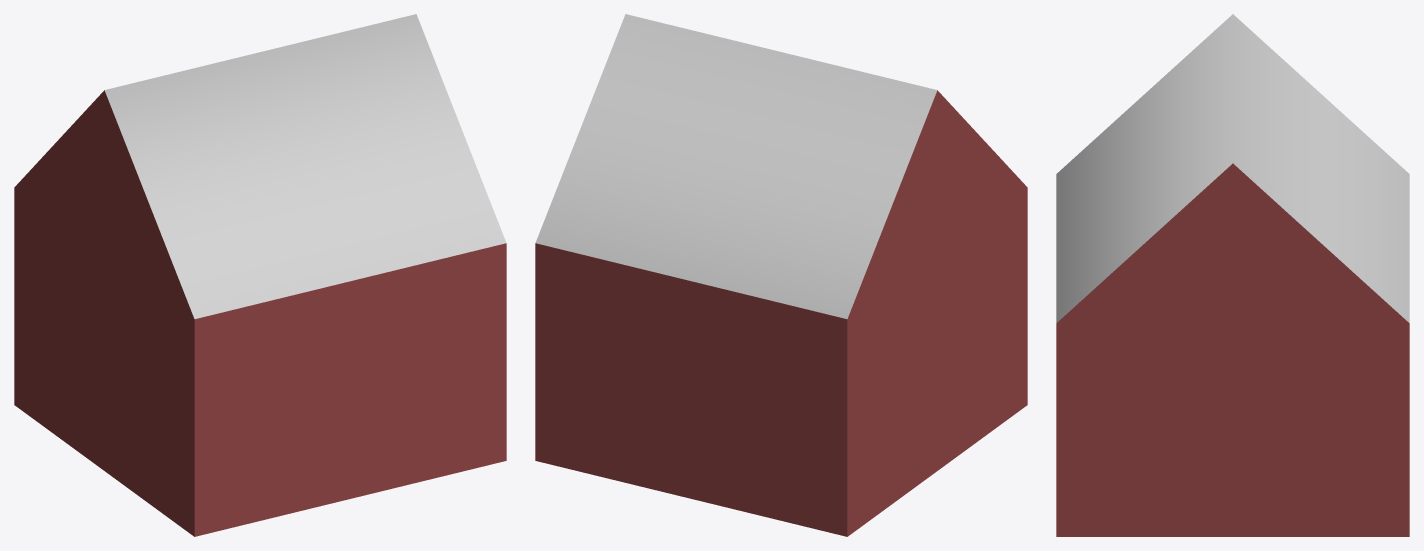
The model's file is Barn.fbx.
The picture shows the model from 3 angles, left to right: view 1: azimuth 30°, elevation 25°; view 2: azimuth 150°, elevation 25°; view 3: azimuth 270°, elevation 25°; orthographic projection.
Visible parts, largest first — view 1: Barn; view 2: Barn; view 3: Barn.
Part boxes in pixels (x1,y1,x2,y2): Barn: [14, 14, 506, 536]; Barn: [535, 14, 1027, 536]; Barn: [1056, 14, 1409, 536].
Bounding box in the file's own units: 6 × 7 × 6.
